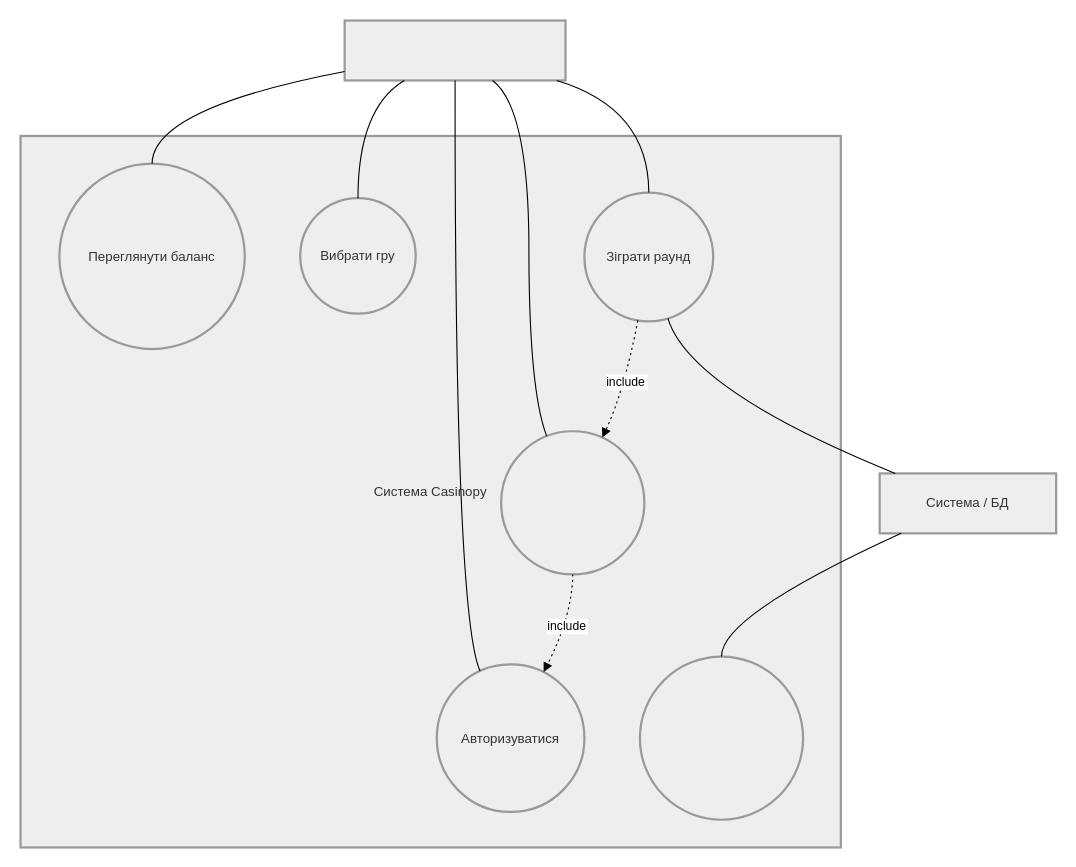
The diagram is 1076 pixels wide and 867 high, and some of its shapes have lost their labels. Here are the shapes that lost their labels. From the top down, the centre of each, then its label:
point 454,50: Гравець: BratBeast
point 572,502: Зробити ставку
point 721,737: Отримати виграш
